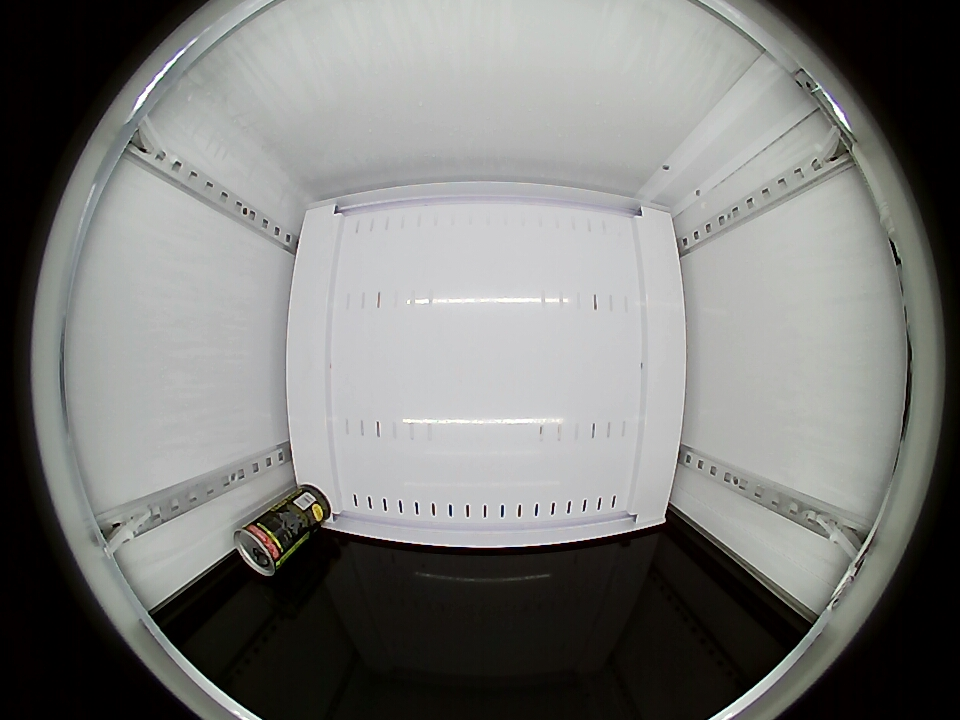yezhi: (234, 517, 289, 576)
